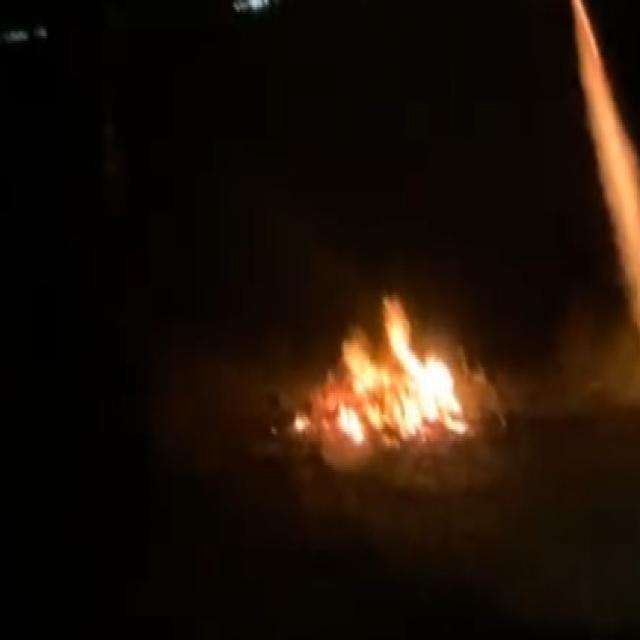fire: (364, 294, 473, 450), (289, 327, 365, 457)
